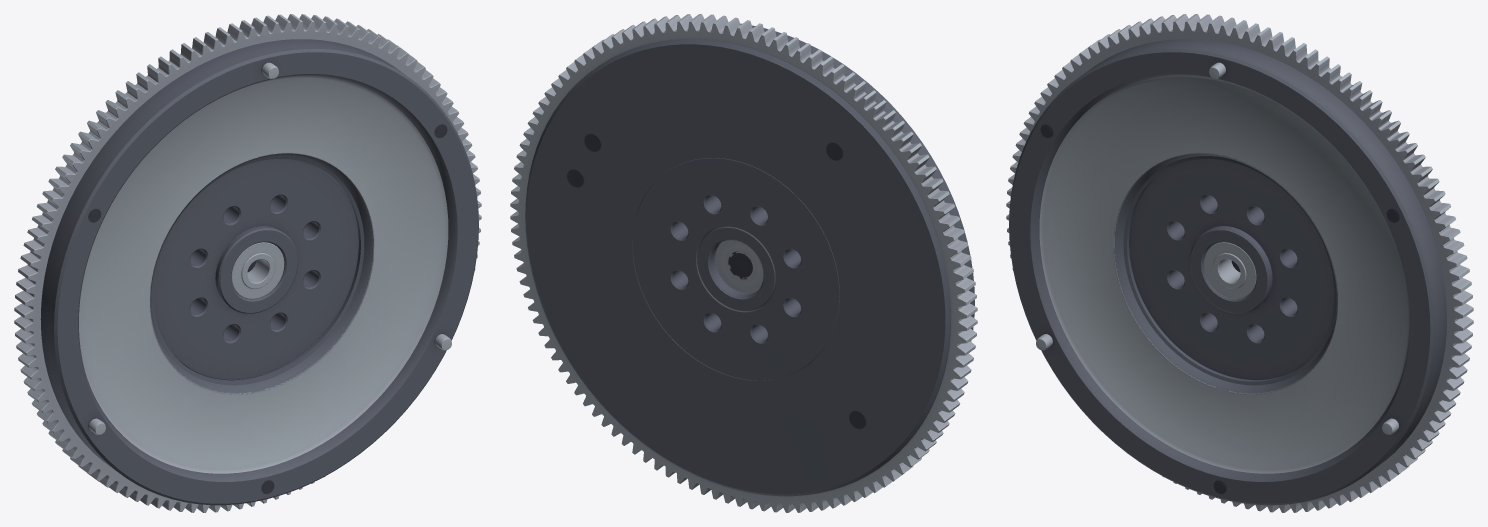
File: flywheel.glb
The picture shows the model from 3 angles, left to right: view 1: azimuth 30°, elevation 25°; view 2: azimuth 150°, elevation 25°; view 3: azimuth 330°, elevation 25°; orthographic projection.
Visible parts, largest first — view 1: flywheel_rotor; view 2: flywheel_rotor; view 3: flywheel_rotor.
Part boxes in pixels (left/top/right/bottom): flywheel_rotor: left=14, top=14, right=481, bottom=512; flywheel_rotor: left=510, top=14, right=977, bottom=512; flywheel_rotor: left=1006, top=14, right=1473, bottom=512.
Bounding box in the file's own units: 0.2999 × 0.3 × 0.0389.
Materials: 1 (1 with a texture image).
